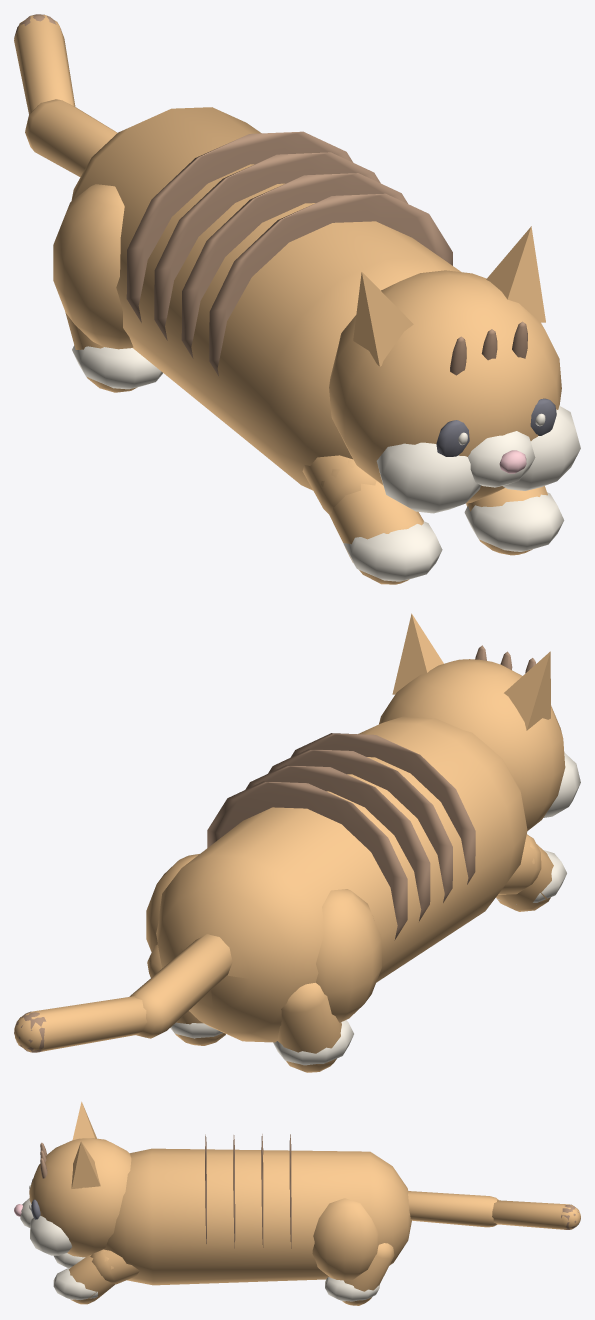
File: companion-animals-and-pet-home-cat-stalking-86cd64d2__20553.glb
3 views of the same model, one above another, from view 1: azimuth 30°, elevation 25°; view 2: azimuth 150°, elevation 25°; view 3: azimuth 270°, elevation 25° (orthographic). The views are drawn at different scales.
Parts seen in each view (by area): view 1: cat-stalking; view 2: cat-stalking; view 3: cat-stalking.
Boxes of the visible parts, bbox=[...] form: cat-stalking: bbox=[14, 14, 580, 584]; cat-stalking: bbox=[14, 613, 580, 1072]; cat-stalking: bbox=[14, 1101, 580, 1305].
Size of the model in its own units: 0.2275 by 0.2667 by 0.8263.
